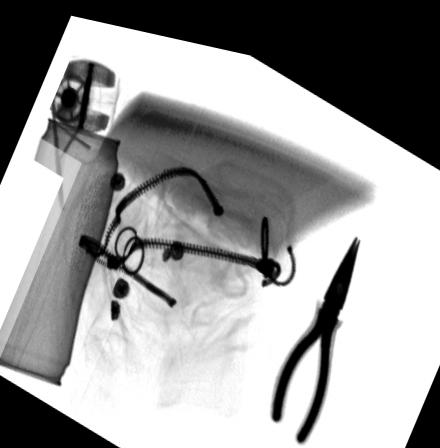Pliers: (265, 216, 361, 432)
